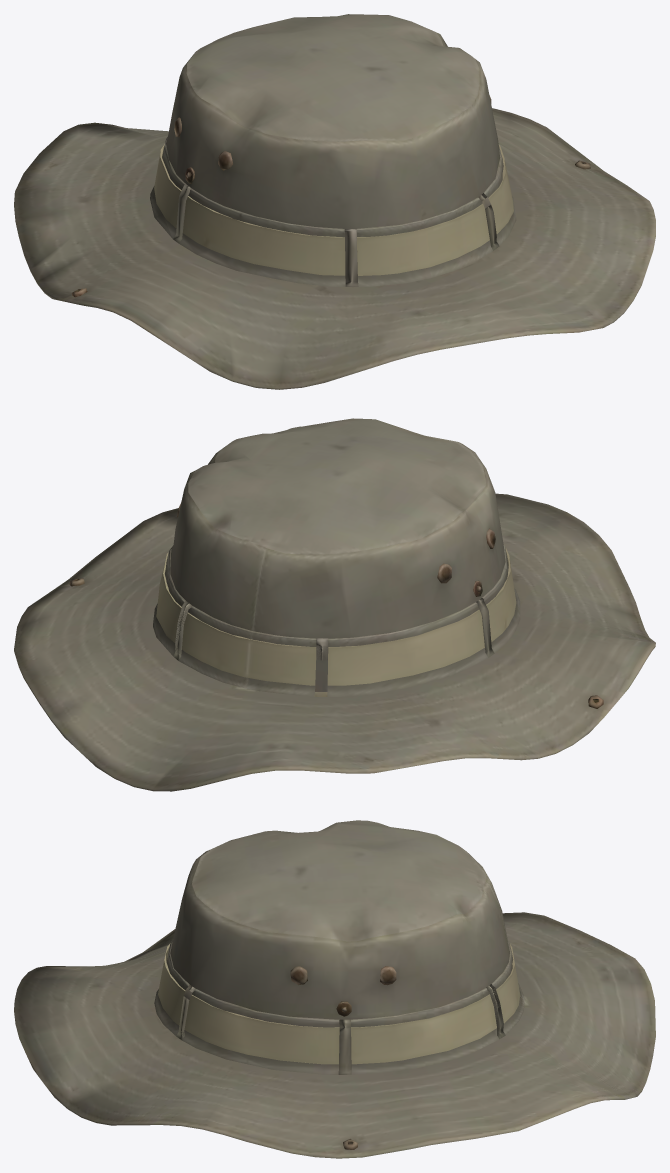
The model's file is ph-fishermans_hat.glb.
The picture shows the model from 3 angles, top to bottom: view 1: azimuth 30°, elevation 25°; view 2: azimuth 150°, elevation 25°; view 3: azimuth 270°, elevation 25°; orthographic projection. The views are drawn at different scales.
Parts seen in each view (by area): view 1: fishermans_hat; view 2: fishermans_hat; view 3: fishermans_hat.
Part boxes in pixels (x1,y1,x2,y2): fishermans_hat: (14,14,655,389); fishermans_hat: (14,418,655,791); fishermans_hat: (14,820,655,1158).
Size of the model in its own units: 0.3236 by 0.1239 by 0.3497.
Materials: 1 (1 with a texture image).
